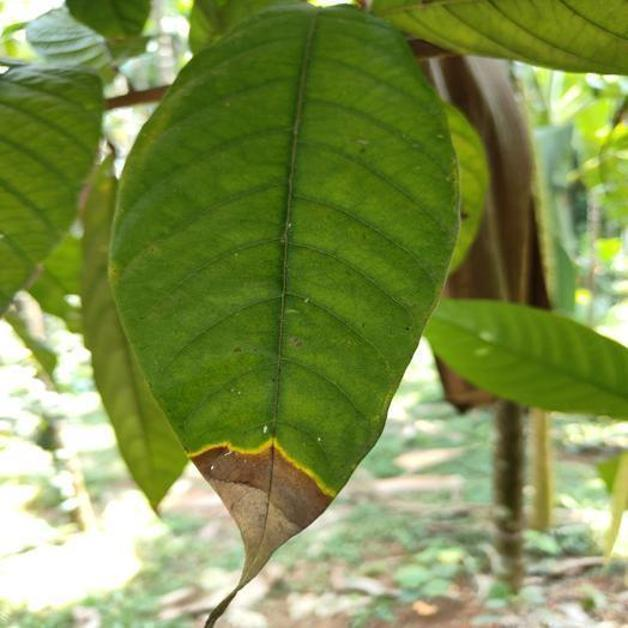Potassium: (110, 6, 458, 583)
